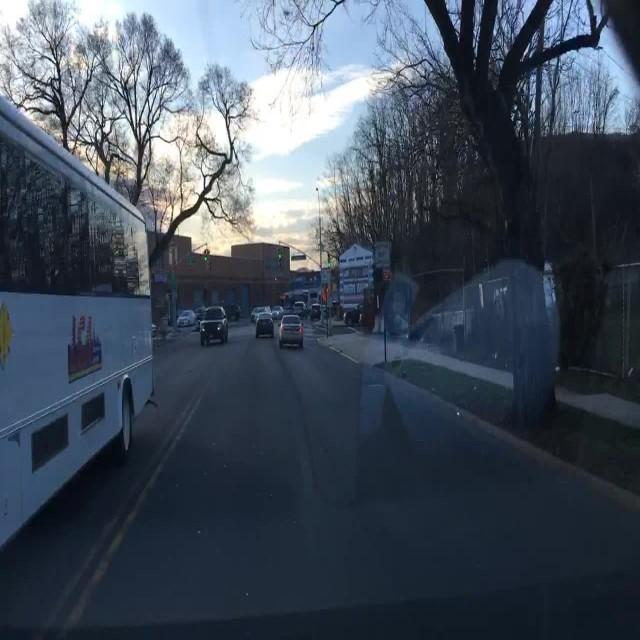normal: (0, 85, 156, 613), (196, 305, 231, 345), (276, 313, 303, 349), (254, 310, 276, 337), (176, 310, 196, 328)
